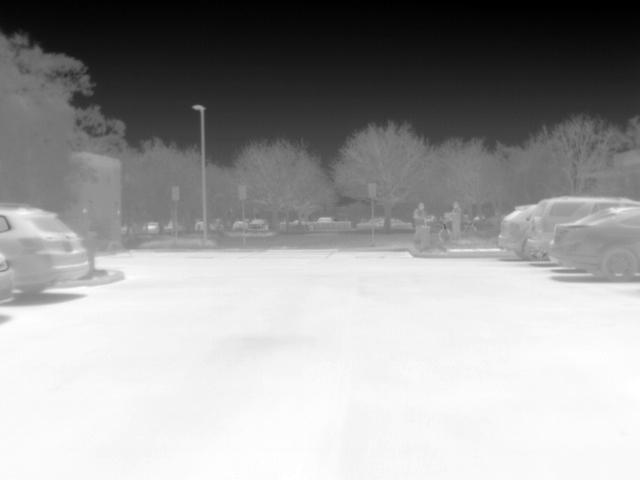car: (1, 200, 91, 294), (527, 195, 640, 258), (547, 209, 640, 281), (496, 204, 542, 262), (1, 253, 14, 306), (248, 218, 268, 230), (145, 220, 161, 234)
person: (443, 200, 463, 238), (413, 202, 431, 239)
